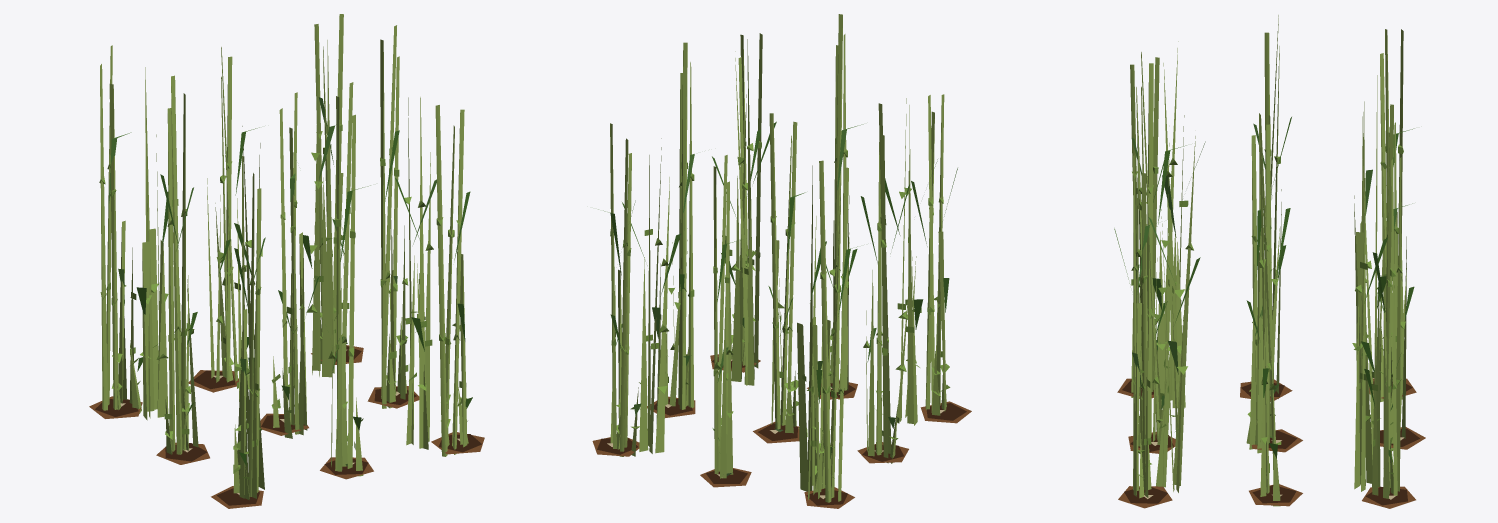
Rendered from sugarcane.glb.
3 renders of one model, left to right at view 1: azimuth 30°, elevation 25°; view 2: azimuth 150°, elevation 25°; view 3: azimuth 270°, elevation 25°, orthographic. The views are drawn at different scales.
Parts seen in each view (by area): view 1: crop-sugarcane-3, crop-sugarcane-2, crop-sugarcane-3-far, crop-sugarcane-2-far, crop-sugarcane-0, crop-sugarcane-1; view 2: crop-sugarcane-3, crop-sugarcane-2, crop-sugarcane-3-far, crop-sugarcane-2-far, crop-sugarcane-0, crop-sugarcane-1; view 3: crop-sugarcane-3, crop-sugarcane-2, crop-sugarcane-3-far, crop-sugarcane-2-far, crop-sugarcane-0, crop-sugarcane-1.
Boxes of the visible parts, x1=… form: crop-sugarcane-3: x1=99, y1=14, x2=470, y2=496; crop-sugarcane-2: x1=118, y1=173, x2=467, y2=498; crop-sugarcane-3-far: x1=145, y1=40, x2=436, y2=448; crop-sugarcane-2-far: x1=136, y1=170, x2=428, y2=489; crop-sugarcane-0: x1=89, y1=345, x2=484, y2=508; crop-sugarcane-1: x1=111, y1=307, x2=472, y2=500; crop-sugarcane-3: x1=598, y1=14, x2=957, y2=502; crop-sugarcane-2: x1=610, y1=176, x2=949, y2=499; crop-sugarcane-3-far: x1=622, y1=39, x2=937, y2=490; crop-sugarcane-2-far: x1=639, y1=199, x2=923, y2=491; crop-sugarcane-0: x1=592, y1=354, x2=971, y2=508; crop-sugarcane-1: x1=616, y1=314, x2=950, y2=492; crop-sugarcane-3: x1=1114, y1=15, x2=1414, y2=495; crop-sugarcane-2: x1=1131, y1=189, x2=1414, y2=498; crop-sugarcane-3-far: x1=1148, y1=41, x2=1387, y2=491; crop-sugarcane-2-far: x1=1152, y1=221, x2=1386, y2=492; crop-sugarcane-0: x1=1117, y1=378, x2=1425, y2=508; crop-sugarcane-1: x1=1137, y1=327, x2=1393, y2=506.
Size of the model in its own units: 1.85 by 1.96 by 1.95.
